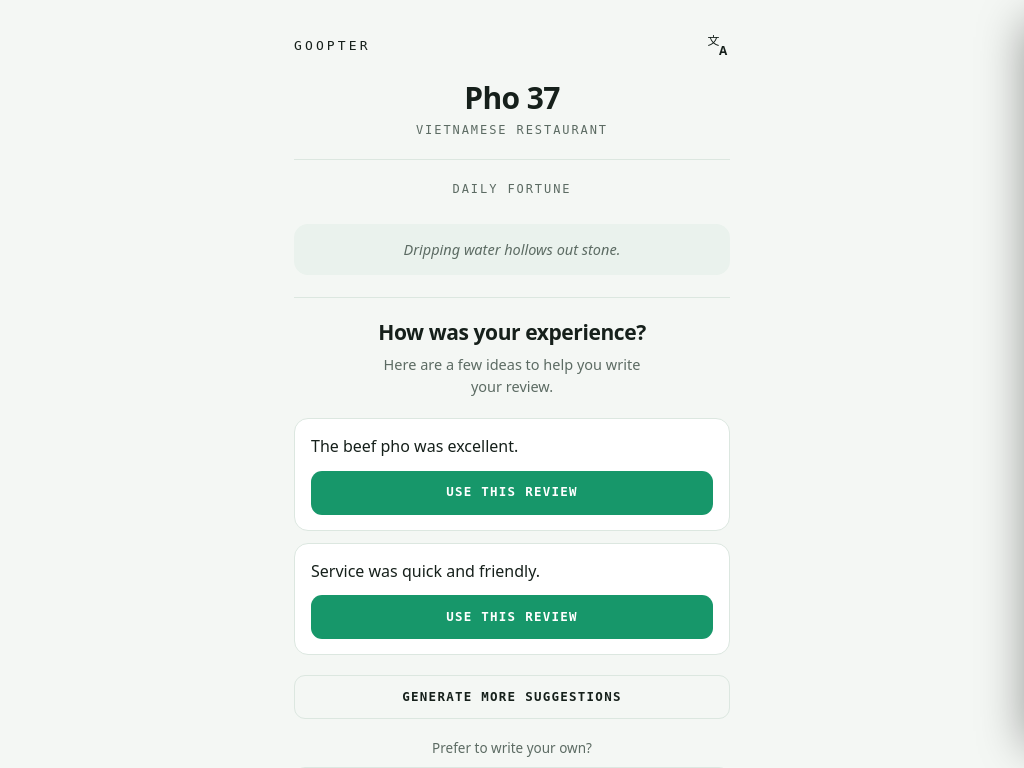
Test: switching language › shows the cached batch without generating again
Expected: the heading "Pho 37" is shown, top-left (464, 82), bottom-right (560, 114)
Expected: the text "The beef pho was excellent." is shown, top-left (311, 435), bottom-right (518, 457)
Click the button with class "menu" at (718, 45), box top-left (701, 28), bottom-right (735, 62)
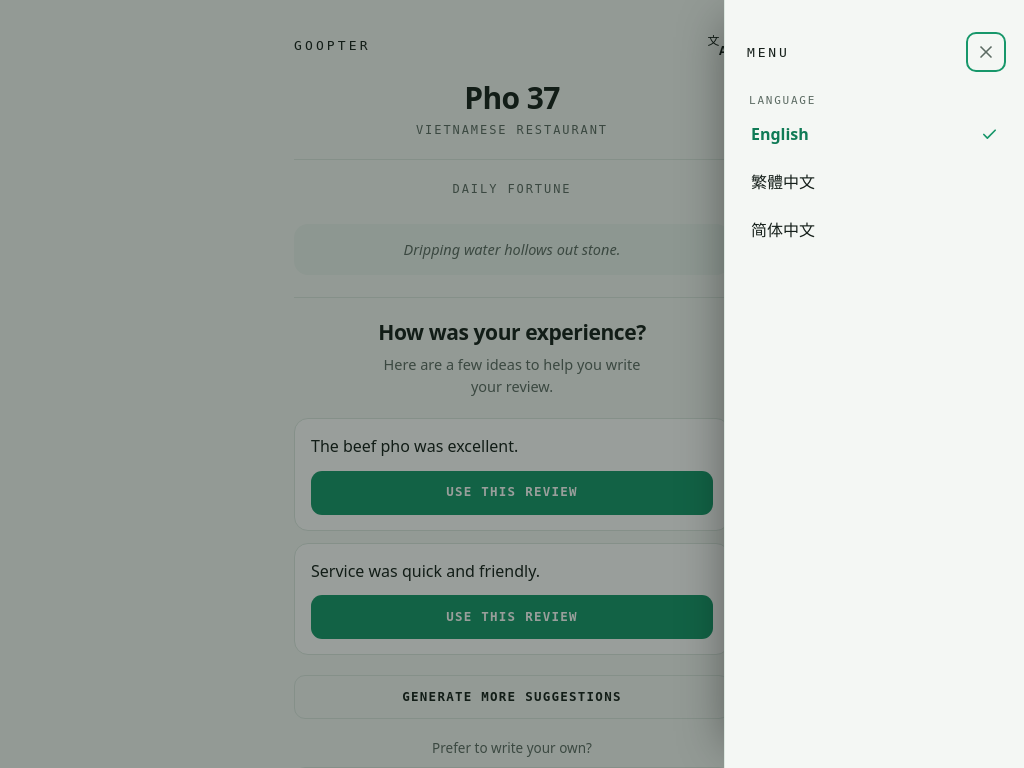
Click the menu item "繁體中文" at (783, 182), box top-left (743, 157), bottom-right (1006, 205)
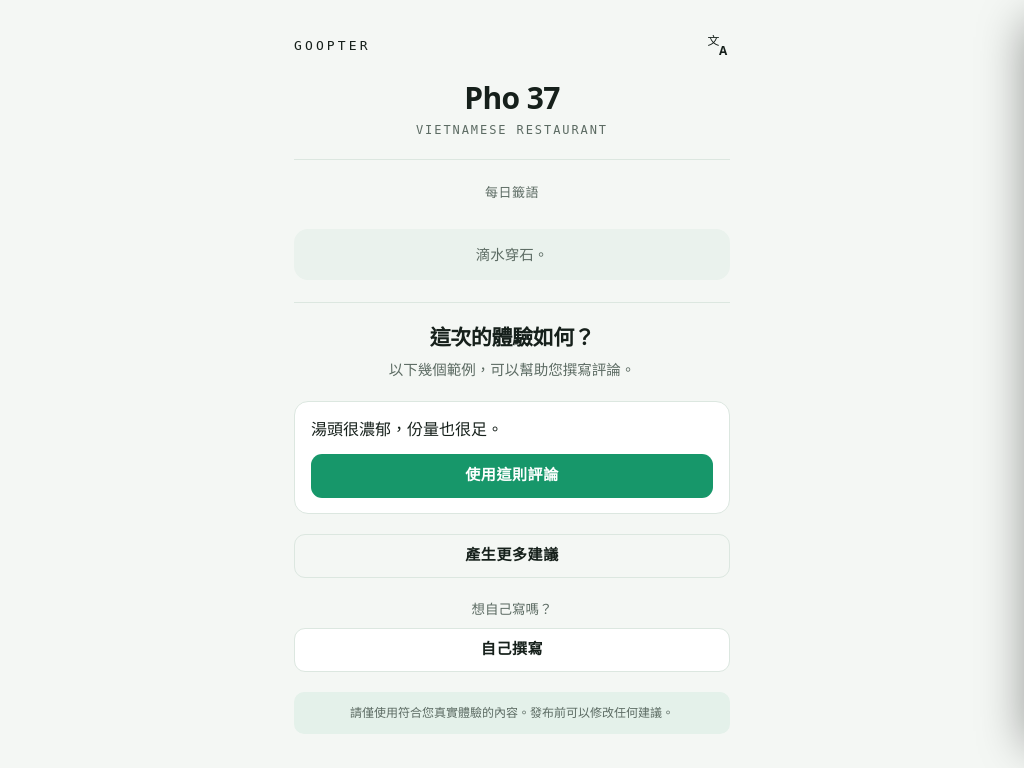
Result: the text "湯頭很濃郁，份量也很足。" is shown at top-left (311, 418), bottom-right (503, 440)
Result: the text "The beef pho was excellent." is gone
